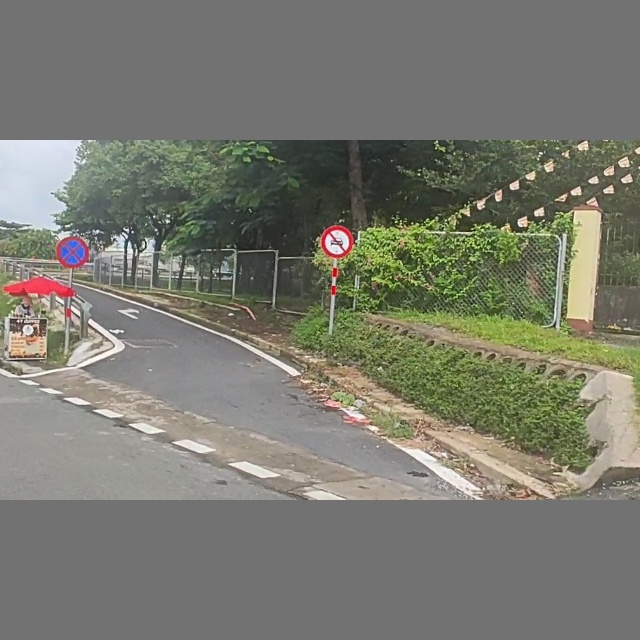P.103a: (322, 225, 353, 259)
P.130: (56, 237, 90, 269)
